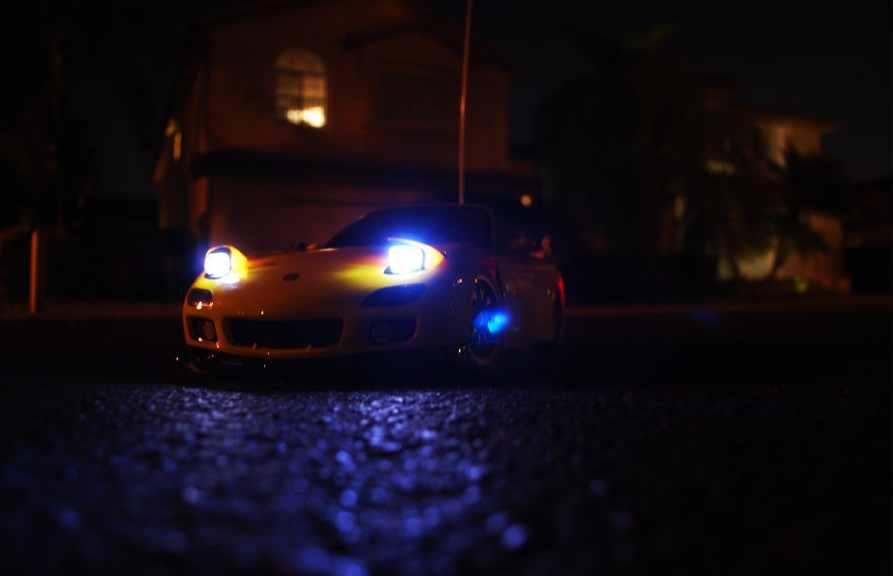car: (161, 192, 588, 394)
